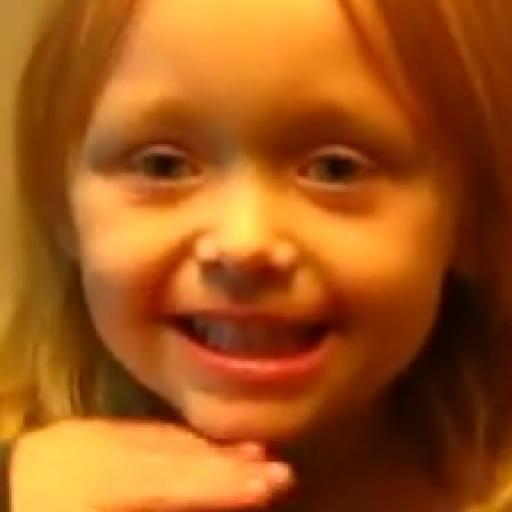Autism: (38, 0, 488, 459)
